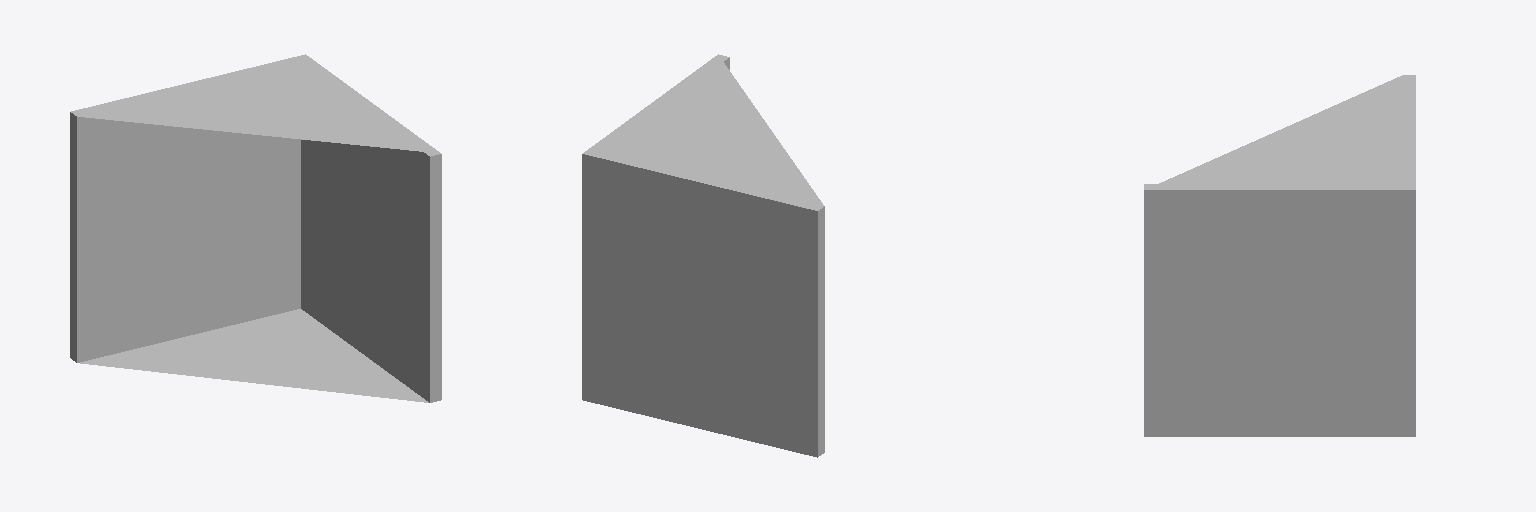
The model's file is Wall_L.obj.
The picture shows the model from 3 angles: view 1: azimuth 30°, elevation 25°; view 2: azimuth 150°, elevation 25°; view 3: azimuth 270°, elevation 25°; orthographic projection.
Visible parts, largest first — view 1: shape; view 2: shape; view 3: shape.
Boxes of the visible parts, x1=… form: shape: x1=70, y1=54, x2=441, y2=402; shape: x1=582, y1=54, x2=824, y2=457; shape: x1=1144, y1=75, x2=1415, y2=436.
Size of the model in its own units: 2 by 2 by 2.